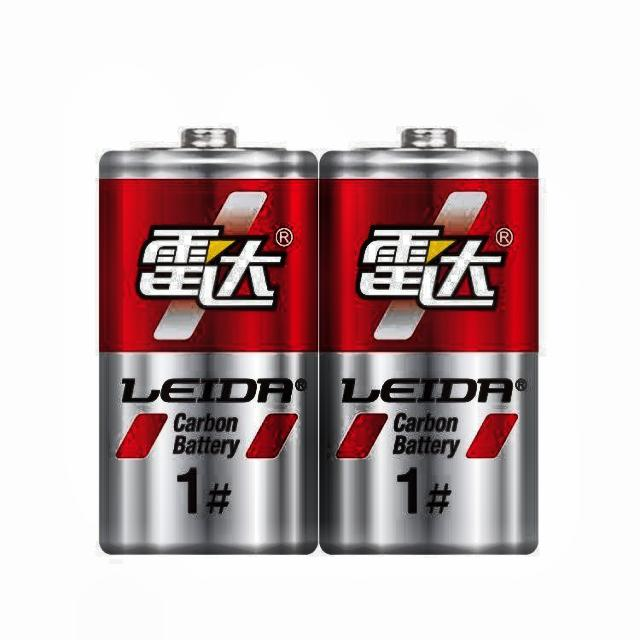Non-Valuable Waste - Batteries: (99, 129, 318, 553), (320, 129, 538, 553)
